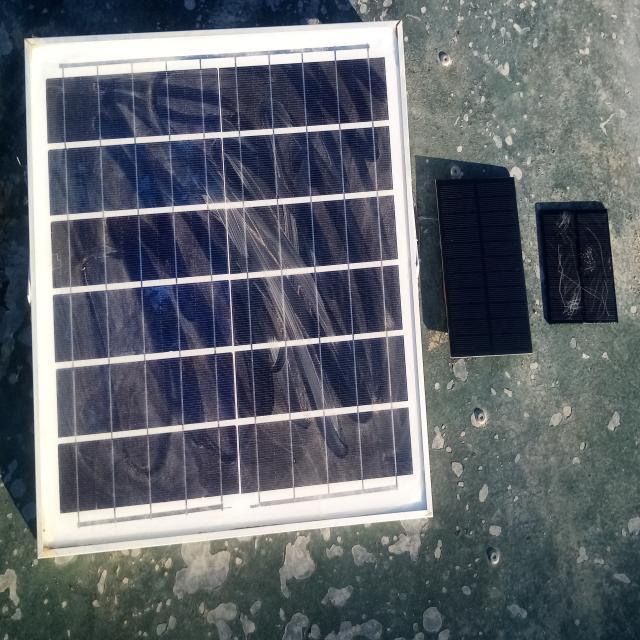faulty: (29, 25, 434, 552)
